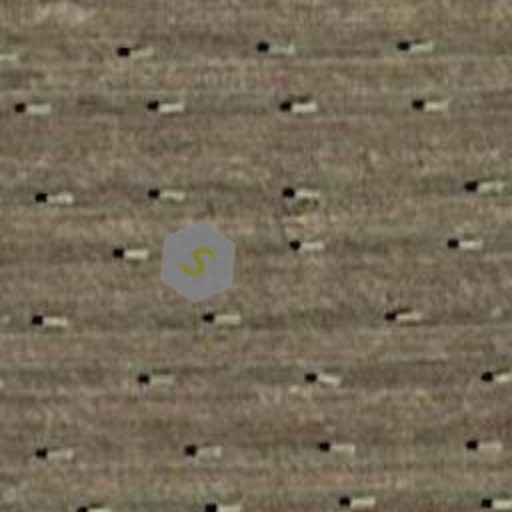hexagon: (140, 204, 256, 320)
